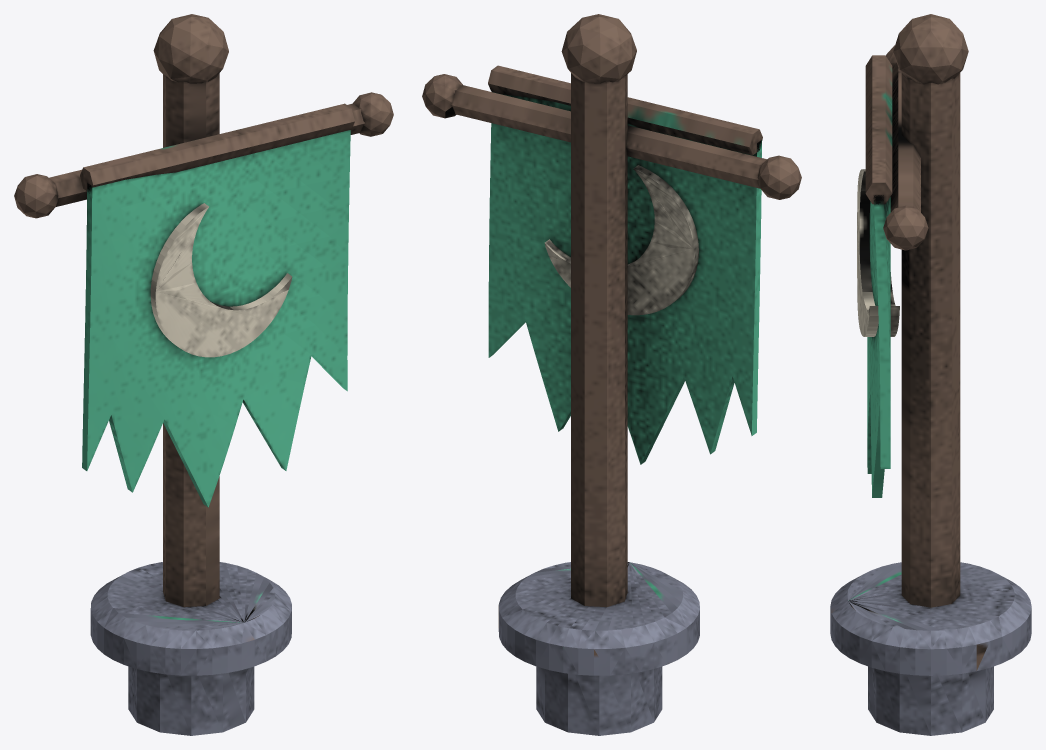
The model's file is Banner_Luna_Esmeralda.glb.
3 views of the same model, side by side, from view 1: azimuth 30°, elevation 25°; view 2: azimuth 150°, elevation 25°; view 3: azimuth 270°, elevation 25° (orthographic).
Parts seen in each view (by area): view 1: Cloth, BaseDisc, Pole, Symbol_Front, Hem, MountPeg, Finial, CrossbarKnob_1, CrossbarKnob_2, Crossbar; view 2: Cloth, Pole, BaseDisc, Crossbar, MountPeg, Symbol_Back, Hem, Finial, CrossbarKnob_1, CrossbarKnob_2; view 3: Pole, BaseDisc, MountPeg, Cloth, Finial, Hem, Crossbar, Symbol_Front, CrossbarKnob_2, Symbol_Back.
Part boxes in pixels (bbox=[...]): Cloth: bbox=[82, 130, 350, 507]; BaseDisc: bbox=[90, 562, 291, 675]; Pole: bbox=[163, 73, 219, 607]; Symbol_Front: bbox=[150, 203, 292, 357]; Hem: bbox=[80, 103, 354, 193]; MountPeg: bbox=[128, 666, 254, 735]; Finial: bbox=[153, 14, 228, 83]; CrossbarKnob_1: bbox=[14, 174, 58, 218]; CrossbarKnob_2: bbox=[353, 92, 393, 136]; Crossbar: bbox=[49, 103, 365, 206]; Cloth: bbox=[488, 91, 761, 464]; Pole: bbox=[571, 73, 627, 607]; BaseDisc: bbox=[498, 562, 699, 675]; Crossbar: bbox=[451, 85, 766, 188]; MountPeg: bbox=[536, 666, 662, 735]; Symbol_Back: bbox=[544, 165, 698, 315]; Hem: bbox=[488, 65, 762, 155]; Finial: bbox=[561, 14, 636, 83]; CrossbarKnob_1: bbox=[757, 155, 801, 199]; CrossbarKnob_2: bbox=[422, 74, 462, 118]; Pole: bbox=[901, 73, 960, 607]; BaseDisc: bbox=[830, 562, 1031, 675]; MountPeg: bbox=[868, 666, 993, 735]; Cloth: bbox=[867, 195, 890, 497]; Finial: bbox=[893, 14, 968, 84]; Hem: bbox=[865, 55, 892, 204]; Crossbar: bbox=[890, 63, 920, 212]; Symbol_Front: bbox=[857, 169, 878, 336]; CrossbarKnob_2: bbox=[883, 205, 928, 250]; Symbol_Back: bbox=[890, 272, 899, 336].
Bounding box in the file's own units: 0.514 × 0.91 × 0.24.
4 materials, 4 textured.
